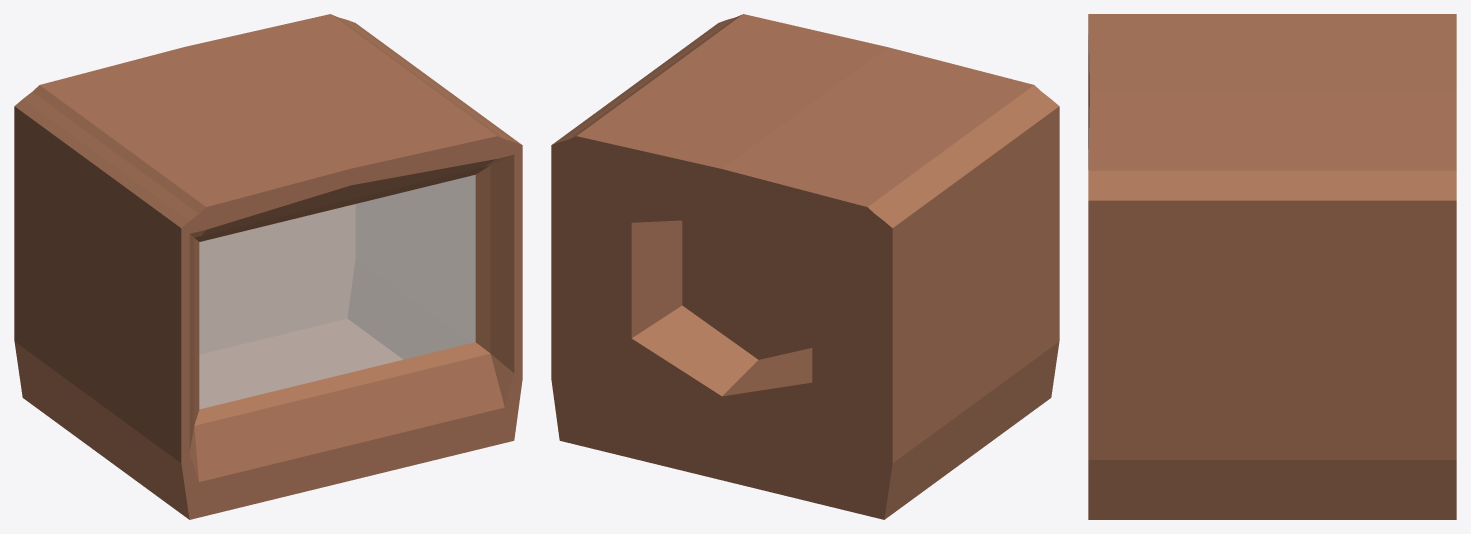
The model's file is Tele 1.fbx.
The picture shows the model from 3 angles, left to right: view 1: azimuth 30°, elevation 25°; view 2: azimuth 150°, elevation 25°; view 3: azimuth 270°, elevation 25°; orthographic projection. The views are drawn at different scales.
Visible parts, largest first — view 1: Tele; view 2: Tele; view 3: Tele.
Boxes of the visible parts, x1=… form: Tele: x1=14, y1=14, x2=522, y2=519; Tele: x1=551, y1=14, x2=1059, y2=519; Tele: x1=1088, y1=14, x2=1456, y2=519.
Bounding box in the file's own units: 70.97 × 61.9 × 60.14.
